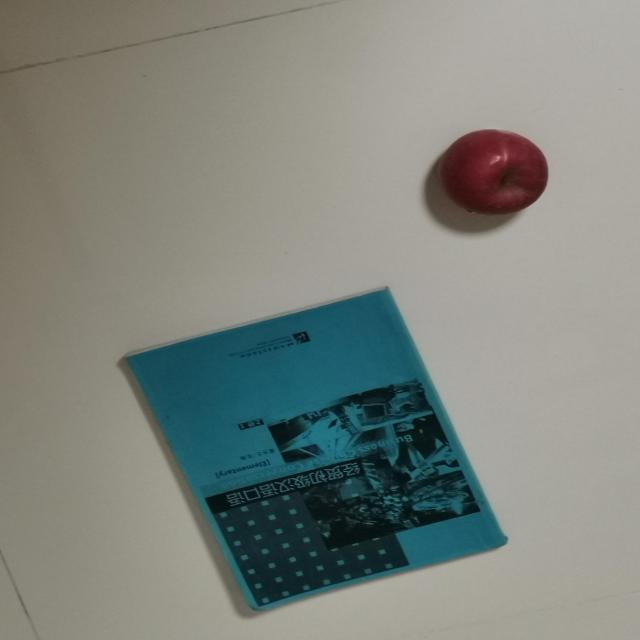Apple: (426, 130, 548, 215)
Book: (73, 288, 522, 615)
